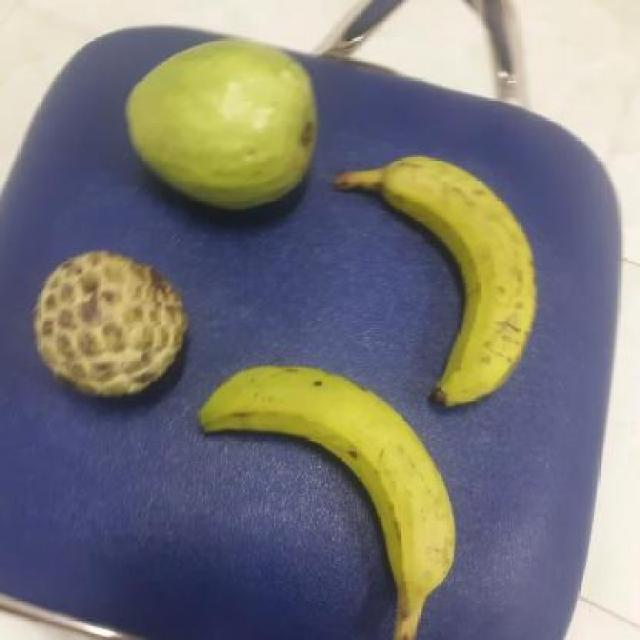banana: (185, 368, 450, 629), (324, 152, 538, 408)
guava: (119, 32, 319, 216)
sugar apple: (24, 251, 187, 398)
